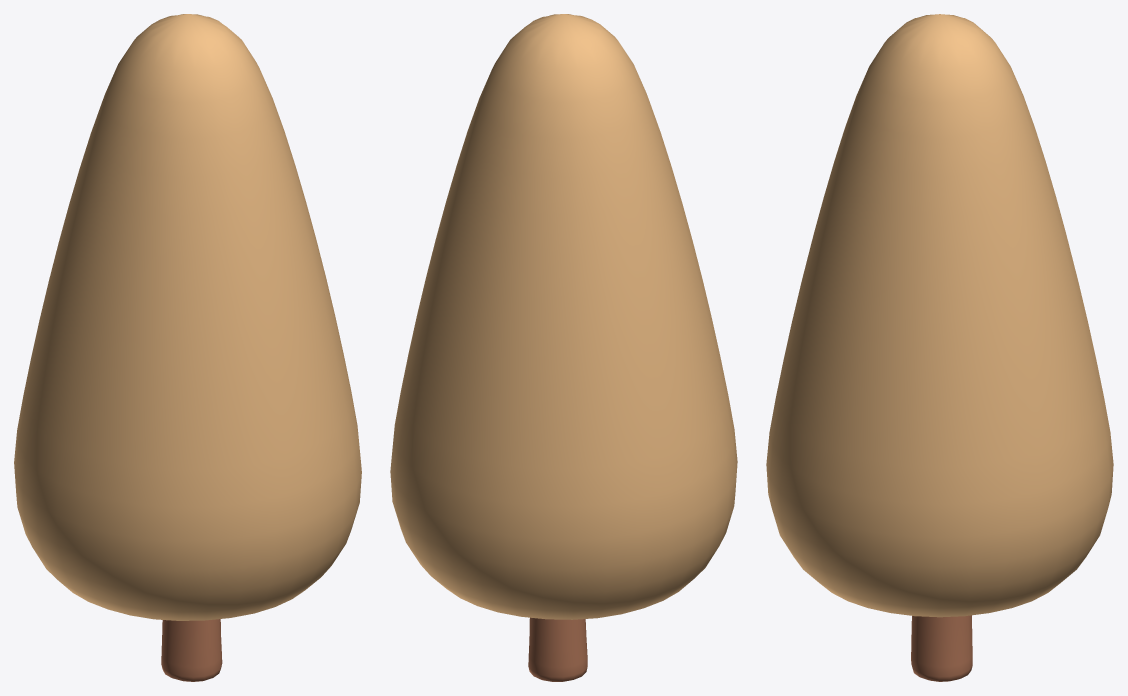
File: TreeSimple_03.fbx
3 views of the same model, side by side, from view 1: azimuth 30°, elevation 25°; view 2: azimuth 150°, elevation 25°; view 3: azimuth 270°, elevation 25° (orthographic).
Parts seen in each view (by area): view 1: TreeSimple_03_LOD0; view 2: TreeSimple_03_LOD0; view 3: TreeSimple_03_LOD0.
Boxes of the visible parts, x1,y1,x2,y2 form: TreeSimple_03_LOD0: (14, 14, 361, 681); TreeSimple_03_LOD0: (390, 14, 737, 681); TreeSimple_03_LOD0: (766, 14, 1113, 681).
Size of what is drawn, in the model's own units: 443 by 923 by 443.
